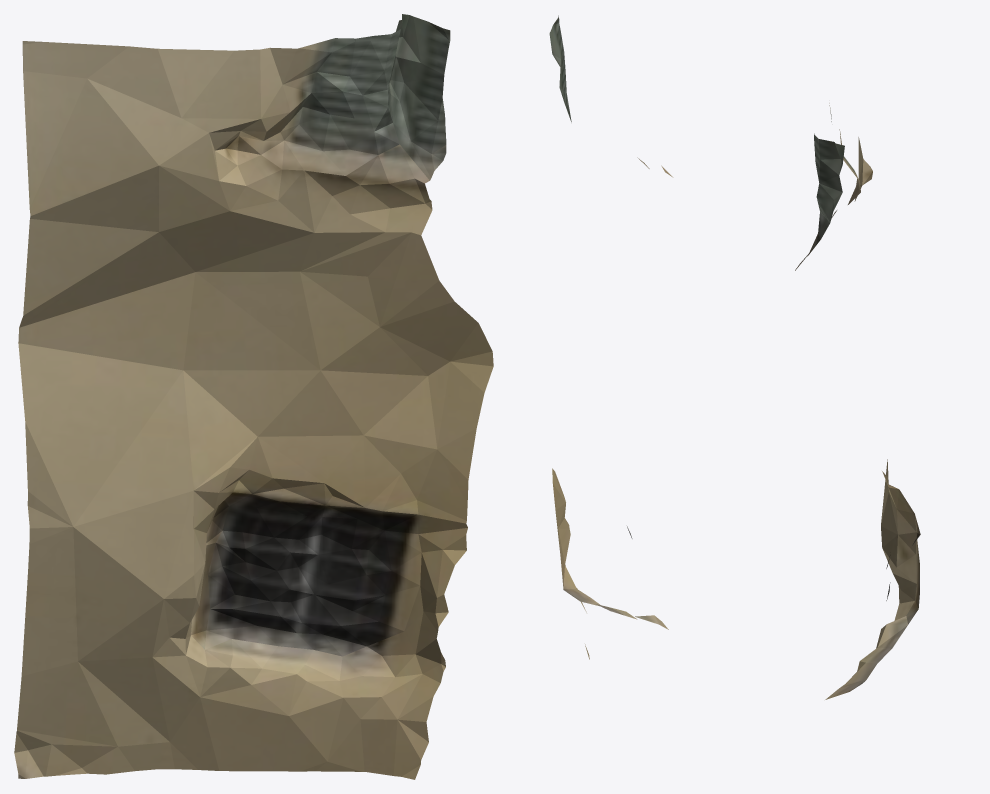
3 renders of one model, left to right at view 1: azimuth 30°, elevation 25°; view 2: azimuth 150°, elevation 25°; view 3: azimuth 270°, elevation 25°, orthographic. The views are drawn at different scales.
Size of the model in its own units: 1.77 by 3.35 by 0.8571.
1 material, 1 textured.
